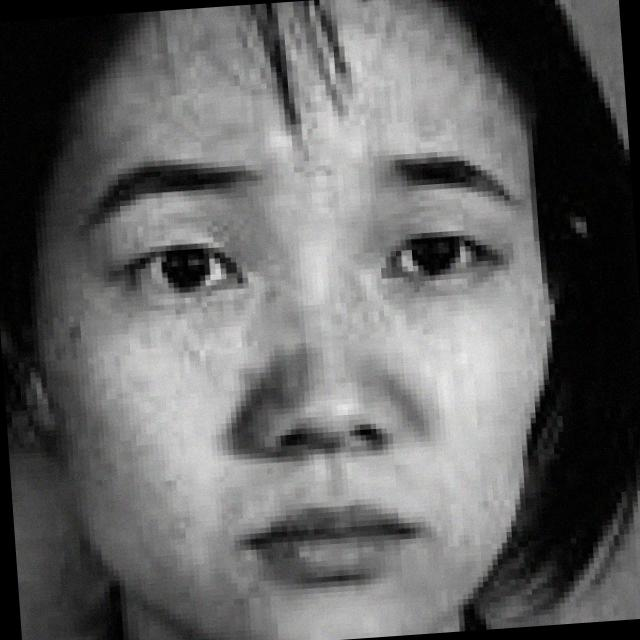fear: (31, 23, 614, 640)
